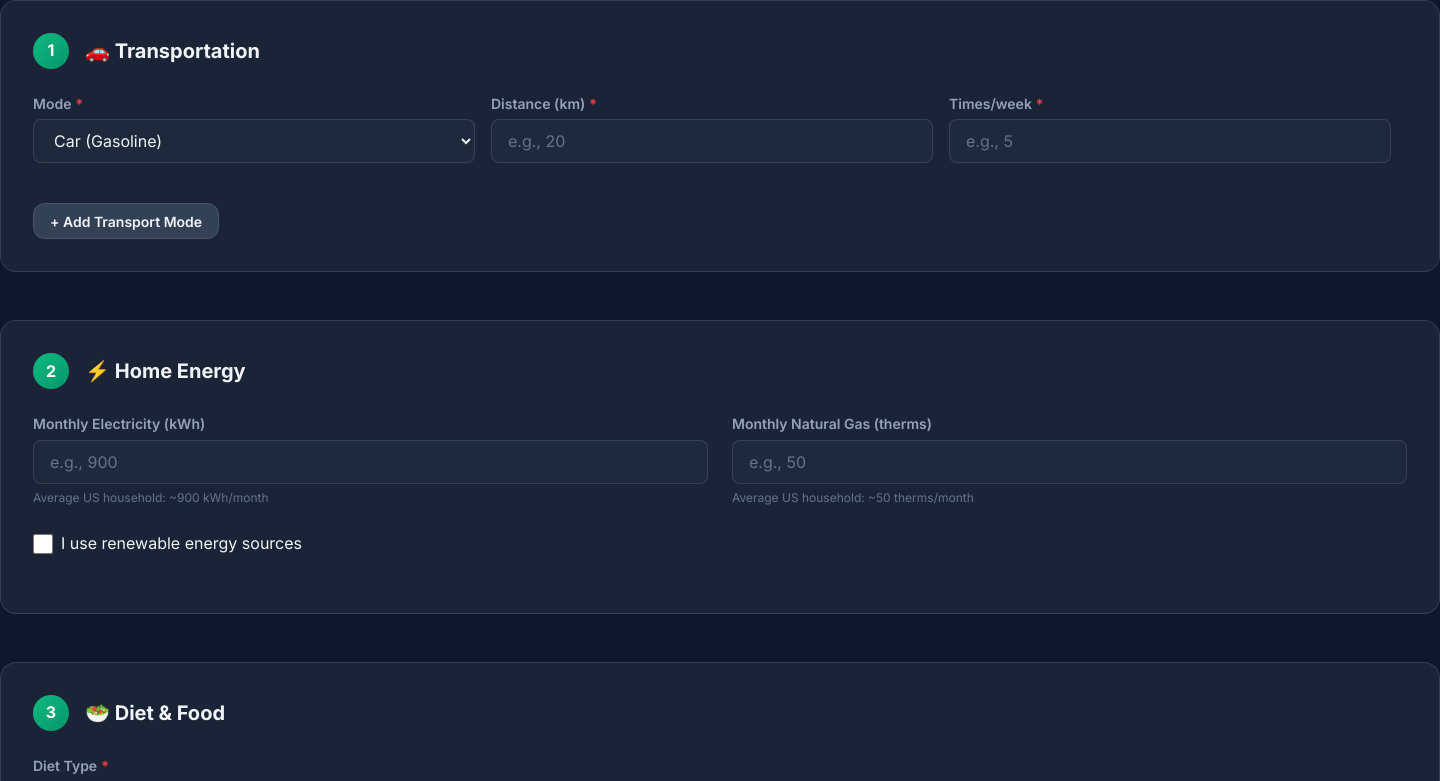
Test: CarbonCalculator › adds and removes transport entries
The width and height of the screenshot is (1440, 781).
Expected: the number of dropdowns named "Transportation mode for entry" is 1, [33,119,475,163]
Click the button with aria-label "Add another transportation entry". click: (126, 221)
box: [33,203,219,239]
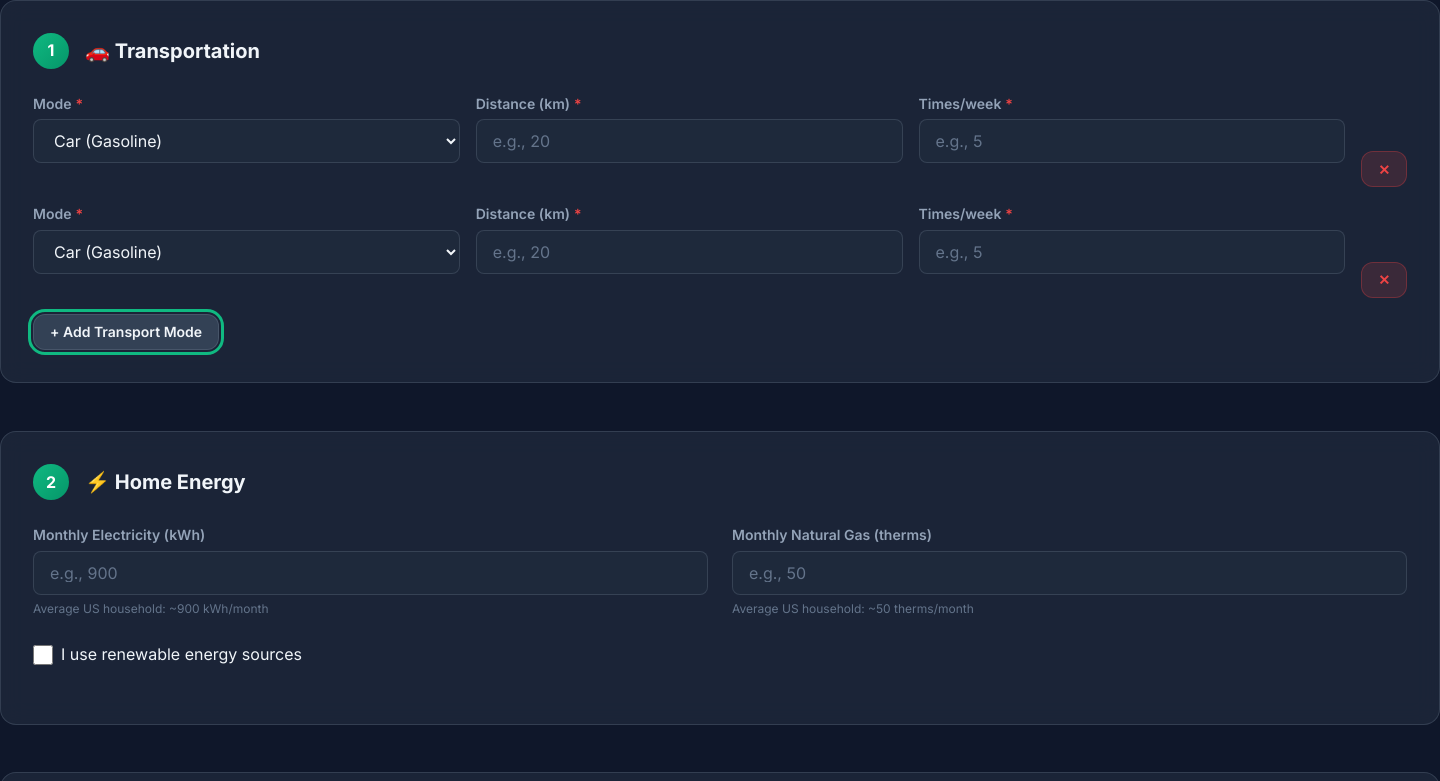
Now the number of dropdowns named "Transportation mode for entry" is 2, box [33,119,460,163]; [33,230,460,274]
Click the button named "Remove transport entry 2". click: (1384, 280)
box: [1361,262,1407,298]
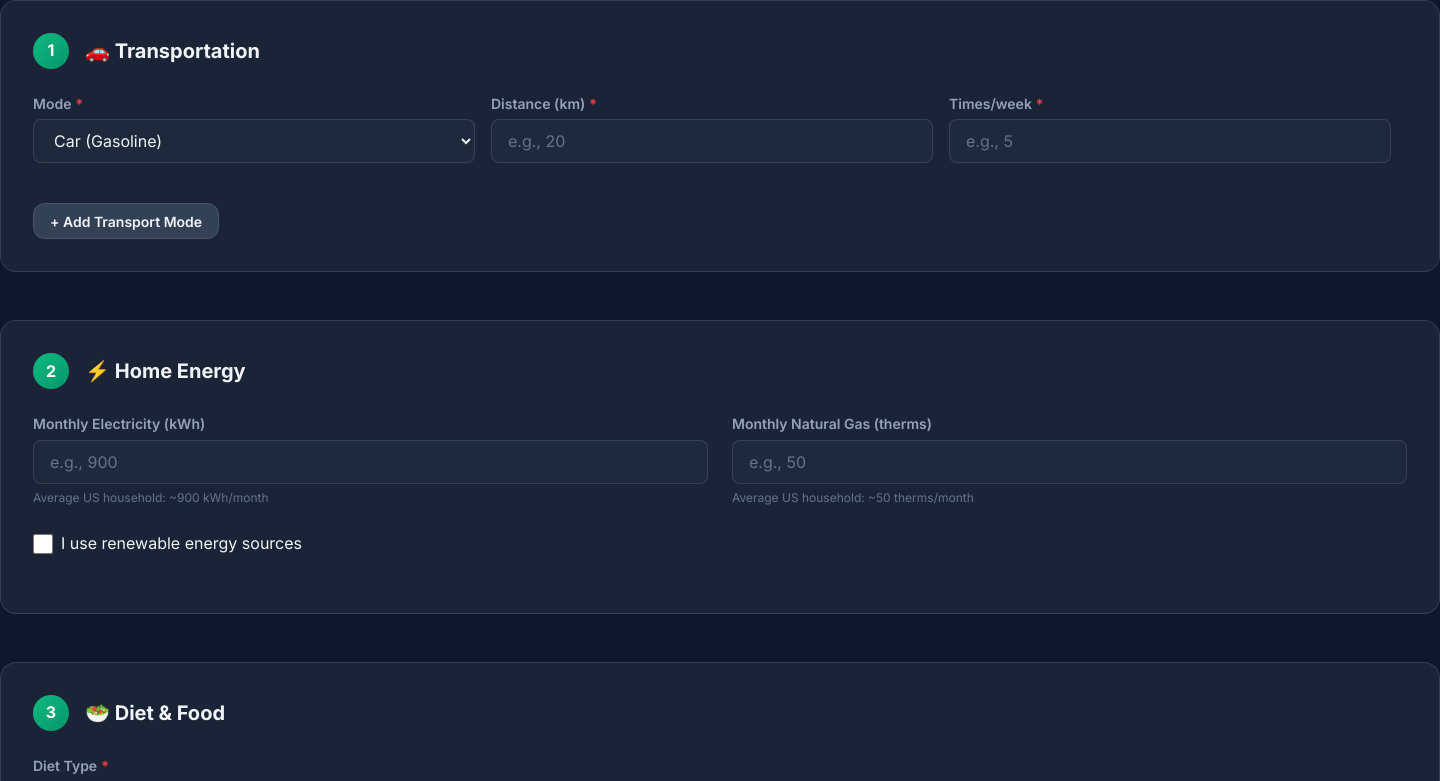
Now the number of dropdowns named "Transportation mode for entry" is 1, box [33,119,475,163]
